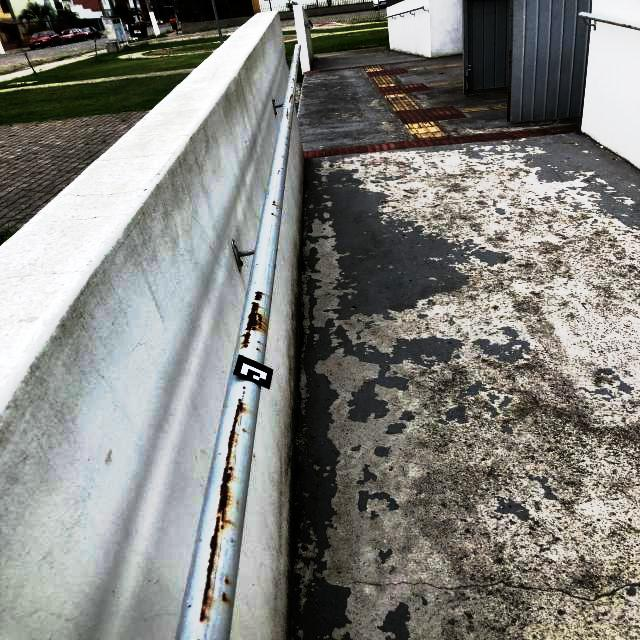Corrosion: (199, 398, 246, 622), (239, 301, 268, 349), (464, 86, 508, 96), (253, 291, 266, 301), (222, 592, 229, 603), (288, 93, 293, 103), (225, 576, 230, 585), (508, 50, 512, 60), (286, 108, 288, 119), (187, 605, 192, 608), (240, 261, 243, 266), (271, 213, 276, 216), (593, 25, 596, 30), (256, 348, 260, 351), (242, 429, 246, 432), (272, 201, 276, 204), (272, 204, 278, 206), (277, 170, 280, 174), (622, 24, 626, 27), (602, 20, 607, 22), (242, 386, 245, 389), (509, 65, 511, 69), (628, 25, 632, 27), (257, 341, 260, 343), (243, 391, 245, 394), (233, 241, 235, 244), (292, 78, 294, 81), (509, 62, 512, 64), (274, 264, 275, 269), (265, 344, 266, 348), (231, 540, 233, 542), (271, 298, 272, 302), (234, 246, 236, 248), (276, 207, 278, 209), (241, 355, 244, 356), (260, 386, 261, 389), (238, 252, 241, 253), (242, 396, 244, 397), (281, 168, 283, 169), (294, 61, 295, 62)
